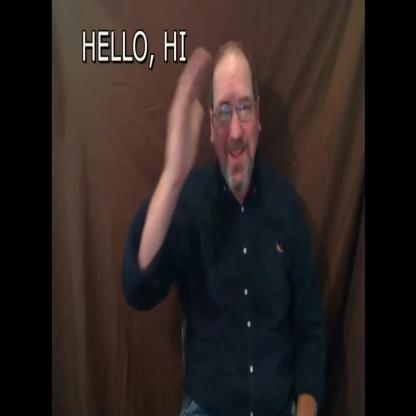Hello: (158, 24, 260, 218)
